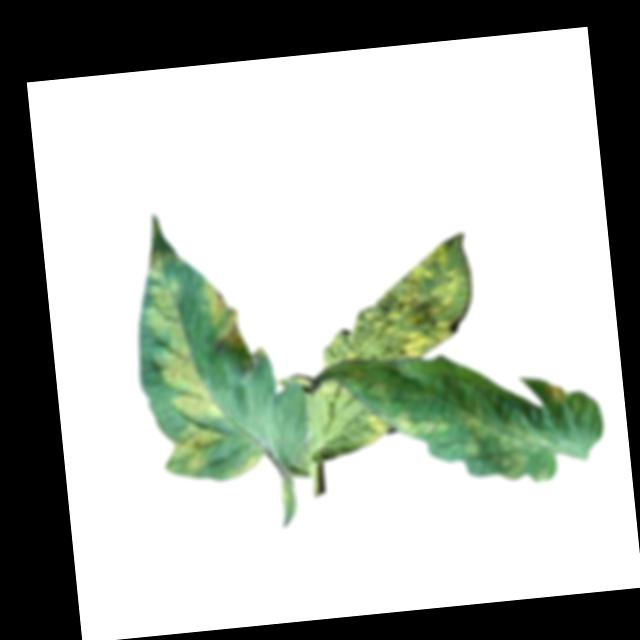Leaf_Mold: (137, 212, 231, 483), (309, 235, 479, 368), (456, 401, 552, 489), (200, 273, 266, 379), (396, 401, 447, 445), (358, 409, 394, 449), (542, 378, 568, 403)
